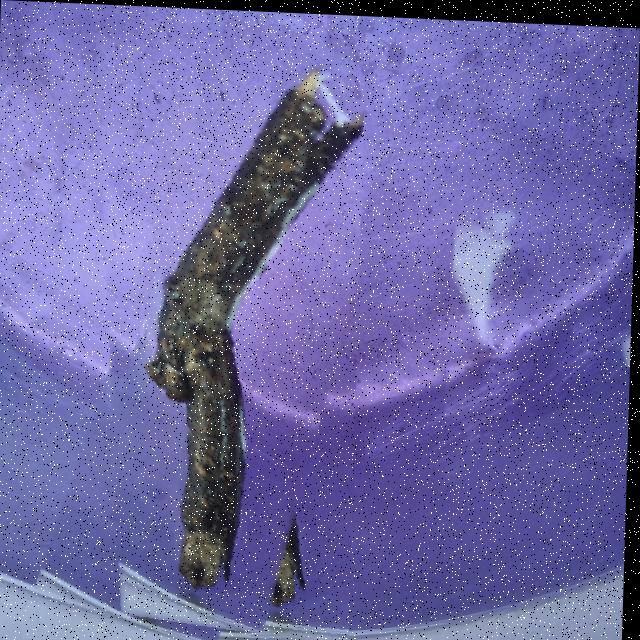litter: (77, 17, 366, 640)
